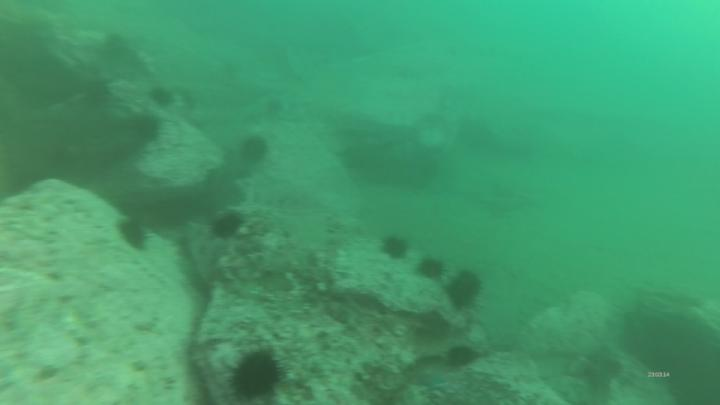echinus: (230, 356, 278, 397), (448, 272, 480, 308), (131, 116, 160, 141), (119, 222, 145, 249), (215, 213, 241, 237), (245, 137, 267, 163), (449, 346, 475, 366), (382, 239, 407, 258), (420, 257, 442, 278), (154, 90, 174, 106)
